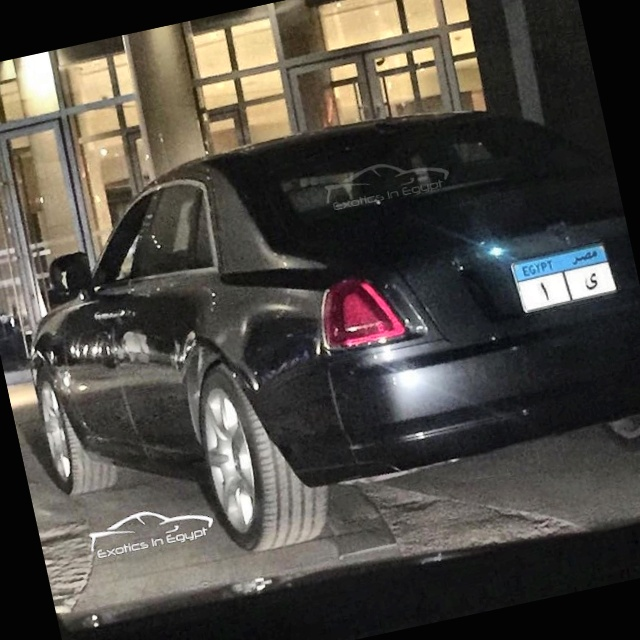License Plate: (505, 237, 621, 317)
